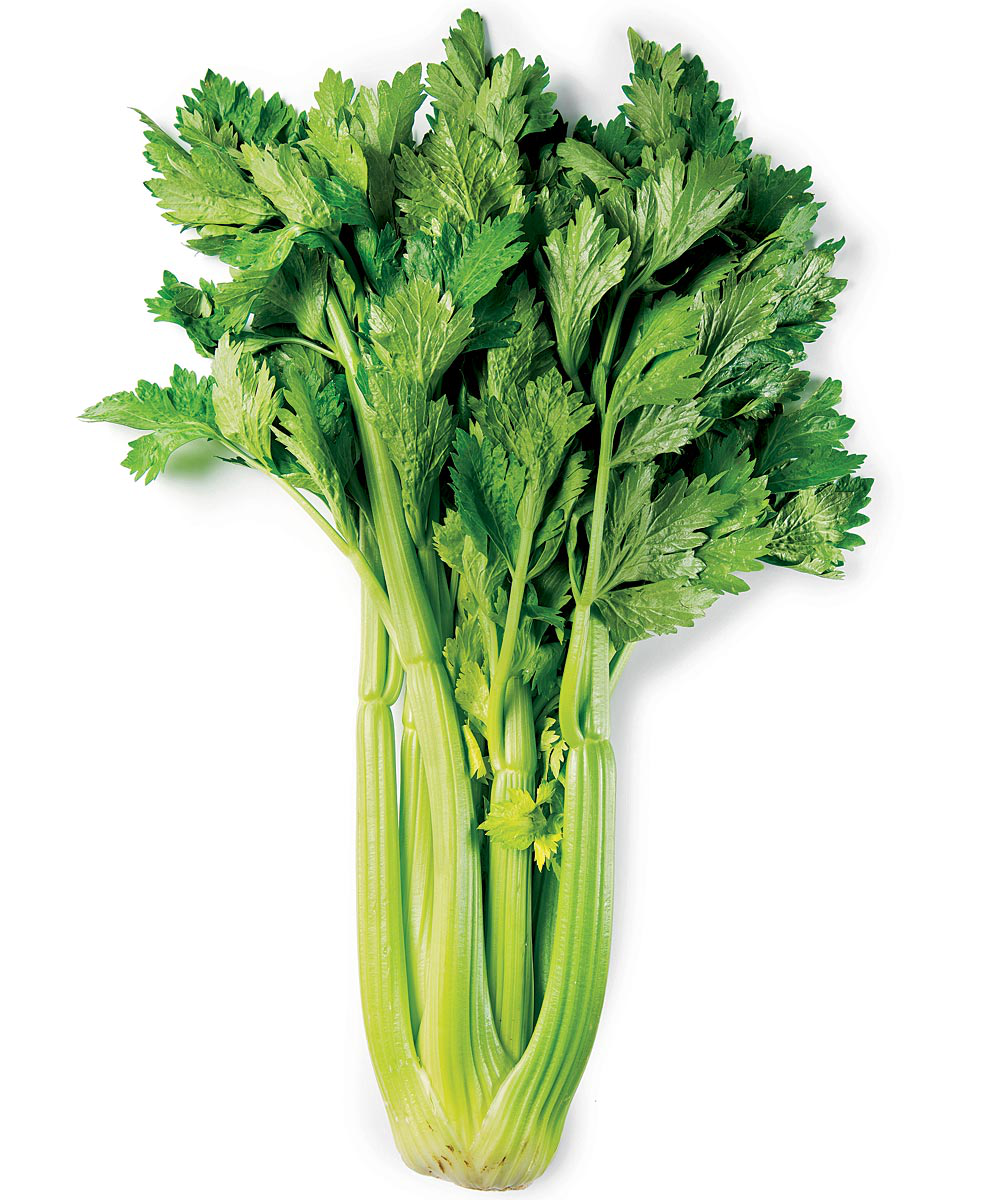Seledri: (111, 15, 943, 1141)
